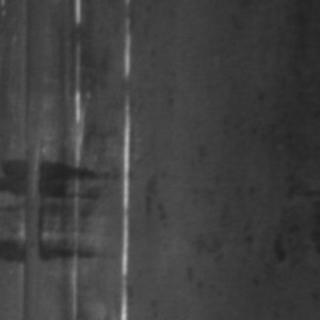inclusion: (0, 159, 84, 261), (18, 0, 38, 144)
scratches: (60, 5, 88, 293), (112, 16, 132, 316)
